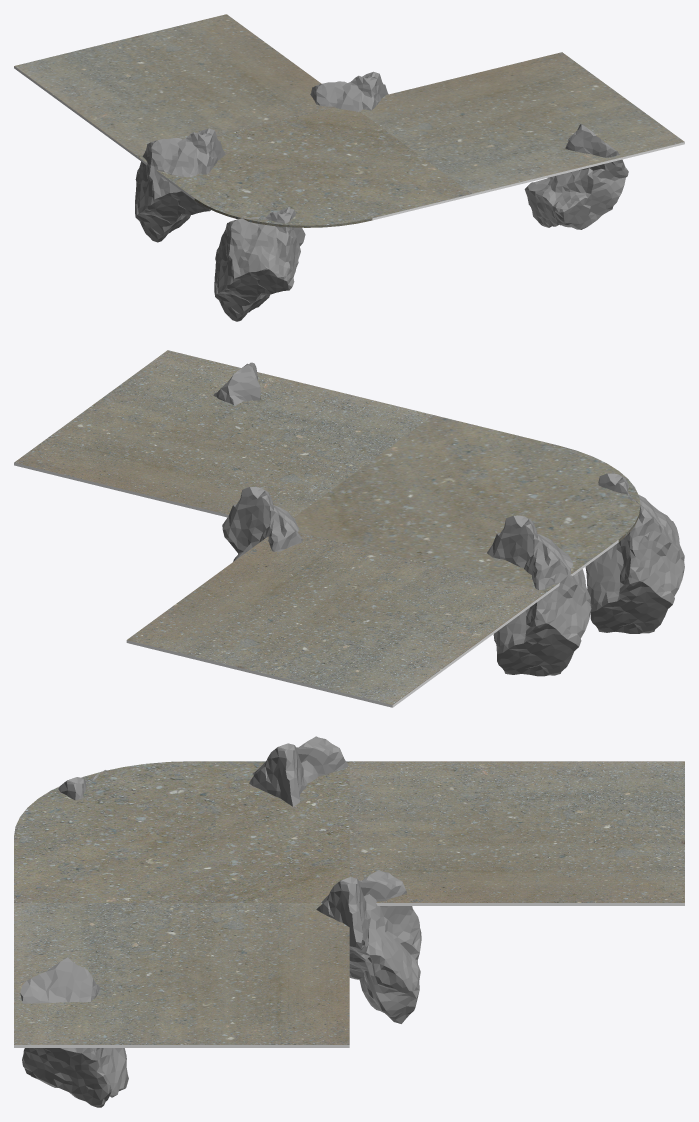
Rendered from turn_right1.fbx.
The picture shows the model from 3 angles, top to bottom: view 1: azimuth 30°, elevation 25°; view 2: azimuth 150°, elevation 25°; view 3: azimuth 270°, elevation 25°; orthographic projection. The views are drawn at different scales.
Visible parts, largest first — view 1: Group3, Group4, Group2, skp830C1, skp830C3, skp830C4, skp830C2; view 2: Group4, Group3, Group2, skp830C3, skp830C1, skp830C2, skp830C4; view 3: Group4, Group3, Group2, skp830C2, skp830C4, skp830C3.
Boxes of the visible parts, x1=… form: Group3: x1=360, y1=52, x2=684, y2=195; Group4: x1=14, y1=14, x2=334, y2=157; Group2: x1=136, y1=107, x2=472, y2=227; skp830C1: x1=214, y1=207, x2=305, y2=321; skp830C3: x1=135, y1=128, x2=225, y2=242; skp830C4: x1=524, y1=124, x2=628, y2=229; skp830C2: x1=310, y1=71, x2=388, y2=111; Group4: x1=126, y1=532, x2=546, y2=707; Group3: x1=14, y1=350, x2=433, y2=517; Group2: x1=294, y1=415, x2=640, y2=594; skp830C3: x1=487, y1=515, x2=591, y2=676; skp830C1: x1=585, y1=473, x2=684, y2=633; skp830C2: x1=222, y1=487, x2=302, y2=561; skp830C4: x1=213, y1=362, x2=260, y2=404; Group4: x1=349, y1=761, x2=684, y2=905; Group3: x1=14, y1=903, x2=349, y2=1047; Group2: x1=14, y1=761, x2=349, y2=902; skp830C2: x1=316, y1=870, x2=421, y2=1023; skp830C4: x1=20, y1=957, x2=128, y2=1107; skp830C3: x1=249, y1=736, x2=348, y2=806.
Size of the model in its own units: 2065 by 605 by 2000.
